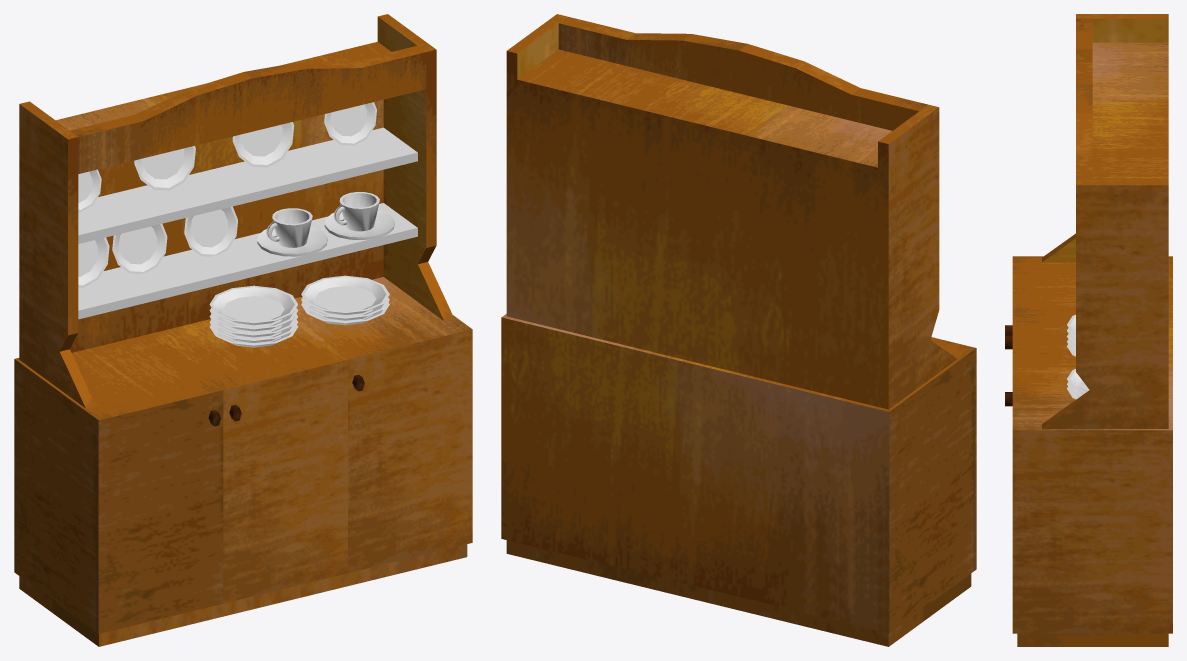
File: Cupboard.fbx
The picture shows the model from 3 angles, left to right: view 1: azimuth 30°, elevation 25°; view 2: azimuth 150°, elevation 25°; view 3: azimuth 270°, elevation 25°; orthographic projection. The views are drawn at different scales.
Visible parts, largest first — view 1: Cube.078, Cylinder.062, Cube.081; view 2: Cube.078; view 3: Cube.078, Cylinder.062.
Boxes of the visible parts, x1,y1,x2,y2 form: Cube.078: (14,14,472,646); Cylinder.062: (78,102,394,347); Cube.081: (78,127,417,319); Cube.078: (501,14,976,646); Cube.078: (1005,14,1172,646); Cylinder.062: (1067,314,1089,399).
Bounding box in the file's own units: 210 × 269 × 85.95.
